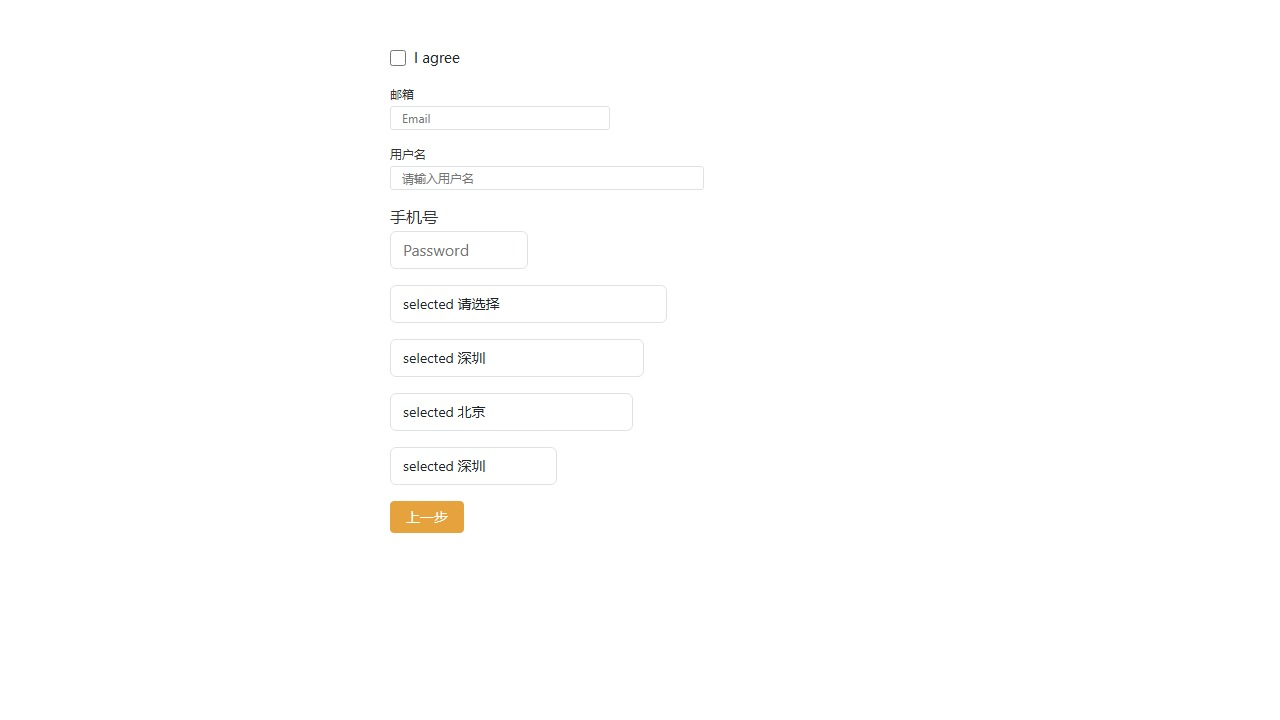button: (390, 501, 464, 532)
checkbox: (390, 50, 406, 65)
icon: (414, 48, 460, 67)
input: (390, 166, 704, 190), (390, 105, 610, 129), (390, 231, 528, 269)
radio: (390, 48, 460, 67)
select: (390, 285, 667, 323), (390, 339, 644, 377), (390, 393, 633, 431), (390, 447, 557, 485)
